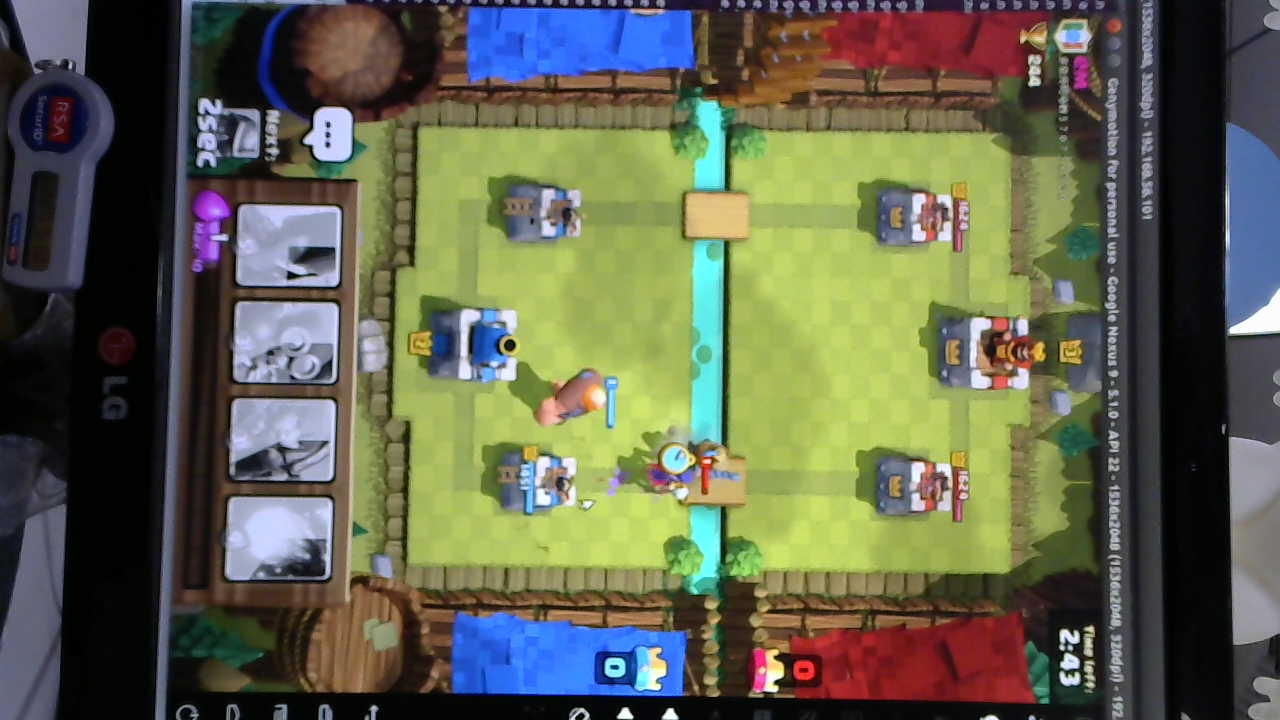prince: (654, 437, 739, 480)
